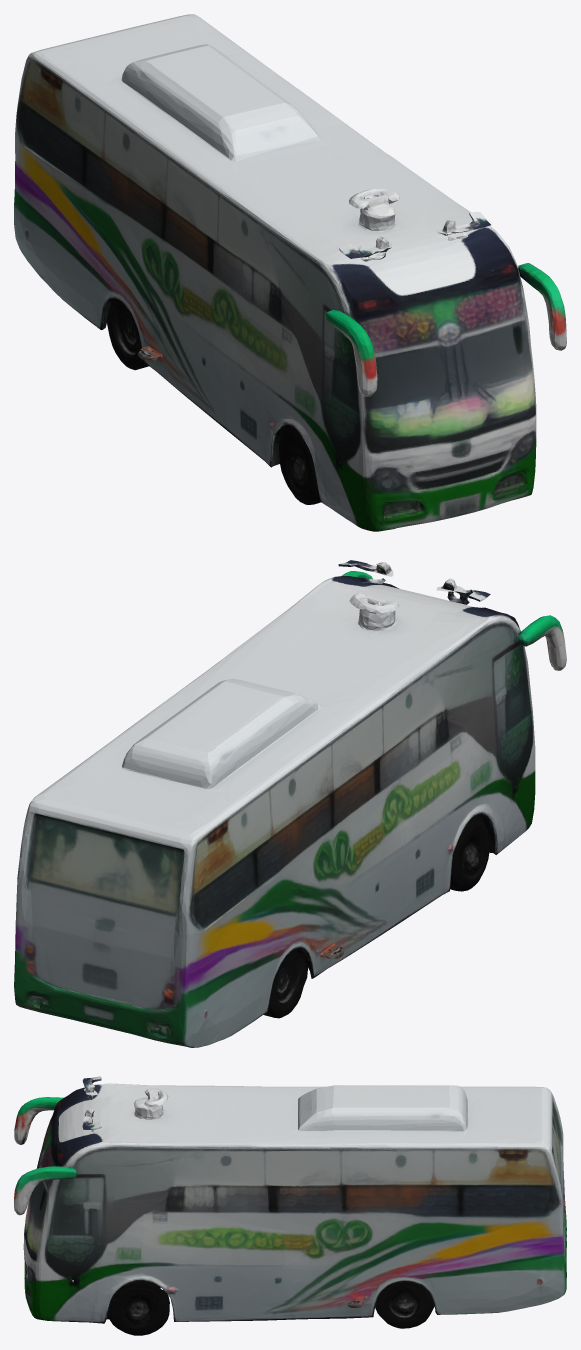
The model's file is bus.glb.
3 views of the same model, one above another, from view 1: azimuth 30°, elevation 25°; view 2: azimuth 150°, elevation 25°; view 3: azimuth 270°, elevation 25° (orthographic). The views are drawn at different scales.
Visible parts, largest first — view 1: world; view 2: world; view 3: world.
Part boxes in pixels (x1,y1,x2,y2): world: (14, 14, 566, 531); world: (14, 560, 566, 1047); world: (14, 1076, 566, 1335).
Size of the model in its own units: 0.322 by 0.4191 by 0.9993.
1 material, 1 textured.
